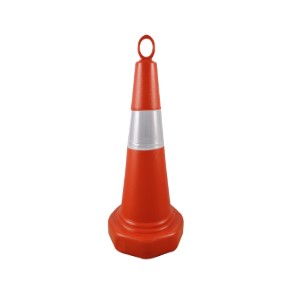traffic cone: (108, 34, 184, 260)
